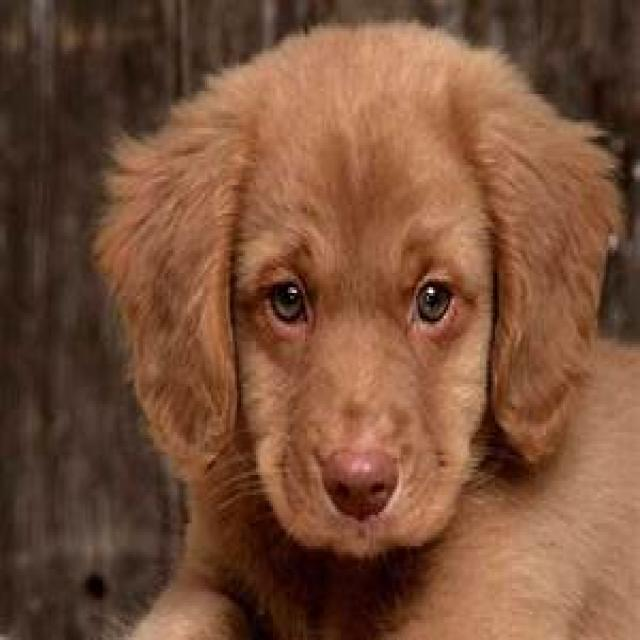dog: (98, 25, 640, 638)
